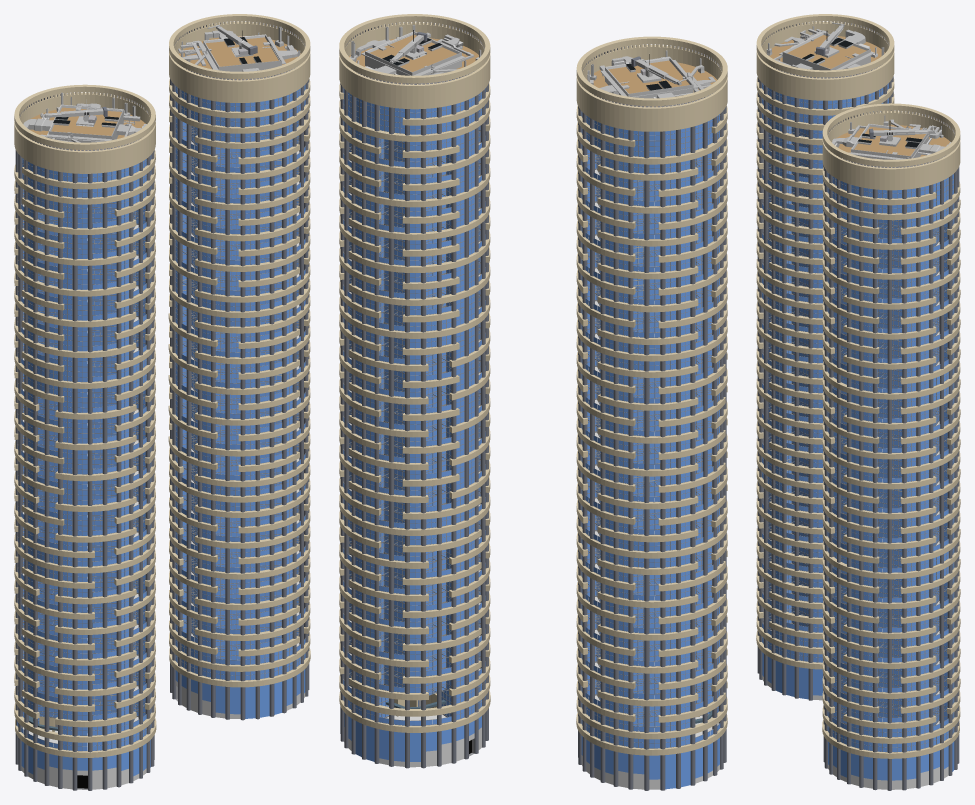
The model's file is [Updated] Yoo Tower.fbx.
3 views of the same model, side by side, from view 1: azimuth 30°, elevation 25°; view 2: azimuth 150°, elevation 25°; view 3: azimuth 270°, elevation 25° (orthographic). The views are drawn at different scales.
Visible parts, largest first — view 1: Yoo Tower 1.001; view 2: Yoo Tower 1.001; view 3: Yoo Tower 1.001.
Part boxes in pixels (left/top/right/bottom): Yoo Tower 1.001: left=14, top=14, right=310, bottom=790; Yoo Tower 1.001: left=339, top=14, right=727, bottom=790; Yoo Tower 1.001: left=756, top=14, right=960, bottom=790.
Bounding box in the file's own units: 3478 × 7059 × 2030.
